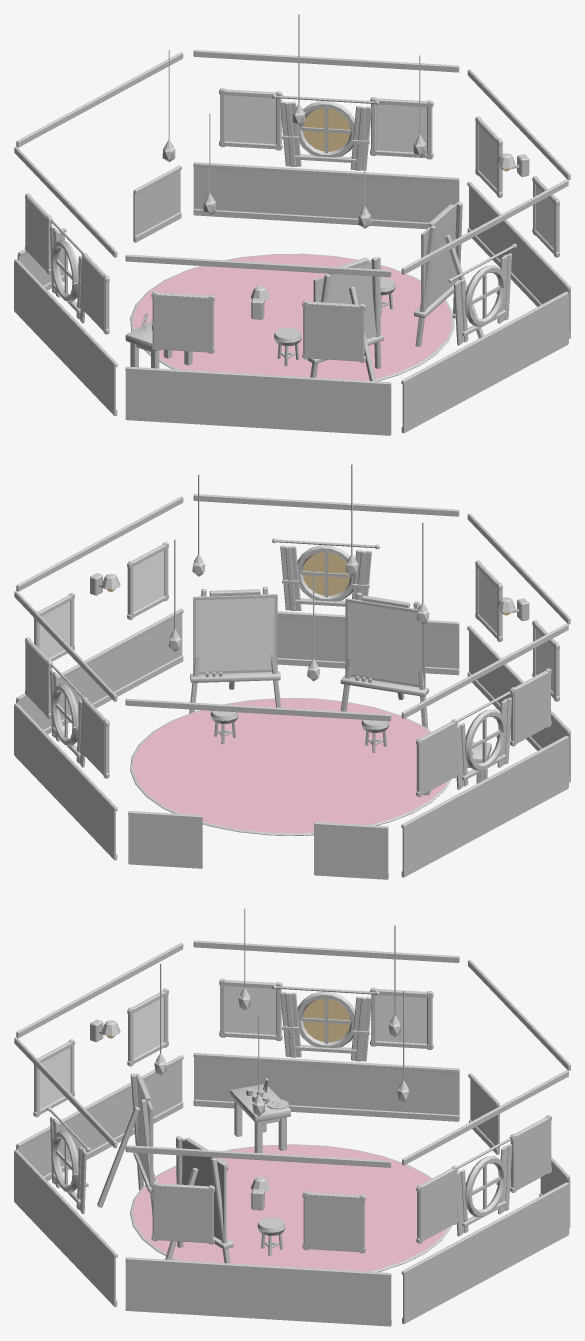
Rendered from zon_room_art.glb.
3 renders of one model, top to bottom at view 1: azimuth 30°, elevation 25°; view 2: azimuth 150°, elevation 25°; view 3: azimuth 270°, elevation 25°, orthographic.
Parts seen in each view (by area): view 1: SM_zon_room_art_kit_interior_x0_z0, SM_zon_room_art_room_rug_x0_z0, SCREEN_fur_frame_gallery_pic__3, SCREEN_fur_frame_gallery_pic__2, SM_zon_room_art_glow_vc_x0_z0, SCREEN_fur_frame_gallery_pic__7, SCREEN_fur_frame_gallery_pic__6; view 2: SM_zon_room_art_kit_interior_x0_z0, SM_zon_room_art_room_rug_x0_z0, SCREEN_fur_easel_art_canvas__0, SCREEN_fur_easel_art_canvas__1, SCREEN_fur_frame_gallery_pic__6, SM_zon_room_art_glow_vc_x0_z0, SCREEN_fur_frame_gallery_pic__7, SCREEN_fur_frame_gallery_pic__5, SCREEN_fur_frame_gallery_pic__4; view 3: SM_zon_room_art_kit_interior_x0_z0, SM_zon_room_art_room_rug_x0_z0, SCREEN_fur_frame_gallery_pic__1, SCREEN_fur_frame_gallery_pic__0, SCREEN_fur_frame_gallery_pic__4, SM_zon_room_art_glow_vc_x0_z0, SCREEN_fur_frame_gallery_pic__5.
Boxes of the visible parts, <box> form: SM_zon_room_art_kit_interior_x0_z0: <box>14,14,570,435</box>; SM_zon_room_art_room_rug_x0_z0: <box>133,254,451,380</box>; SCREEN_fur_frame_gallery_pic__3: <box>225,95,275,144</box>; SCREEN_fur_frame_gallery_pic__2: <box>376,104,426,153</box>; SM_zon_room_art_glow_vc_x0_z0: <box>264,108,510,302</box>; SCREEN_fur_frame_gallery_pic__7: <box>479,125,496,188</box>; SCREEN_fur_frame_gallery_pic__6: <box>536,185,553,248</box>; SM_zon_room_art_kit_interior_x0_z0: <box>14,464,570,879</box>; SM_zon_room_art_room_rug_x0_z0: <box>133,698,446,833</box>; SCREEN_fur_easel_art_canvas__0: <box>196,598,274,671</box>; SCREEN_fur_easel_art_canvas__1: <box>348,602,421,684</box>; SCREEN_fur_frame_gallery_pic__6: <box>133,550,164,612</box>; SM_zon_room_art_glow_vc_x0_z0: <box>106,552,510,615</box>; SCREEN_fur_frame_gallery_pic__7: <box>39,601,70,658</box>; SCREEN_fur_frame_gallery_pic__5: <box>479,569,496,632</box>; SCREEN_fur_frame_gallery_pic__4: <box>536,629,553,692</box>; SM_zon_room_art_kit_interior_x0_z0: <box>14,908,570,1326</box>; SM_zon_room_art_room_rug_x0_z0: <box>133,1145,447,1271</box>; SCREEN_fur_frame_gallery_pic__1: <box>225,985,276,1034</box>; SCREEN_fur_frame_gallery_pic__0: <box>376,995,426,1043</box>; SCREEN_fur_frame_gallery_pic__4: <box>133,996,164,1058</box>; SM_zon_room_art_glow_vc_x0_z0: <box>106,998,350,1192</box>; SCREEN_fur_frame_gallery_pic__5: <box>39,1047,70,1109</box>.
Bounding box in the file's own units: 9.3 × 5.03 × 9.87.
